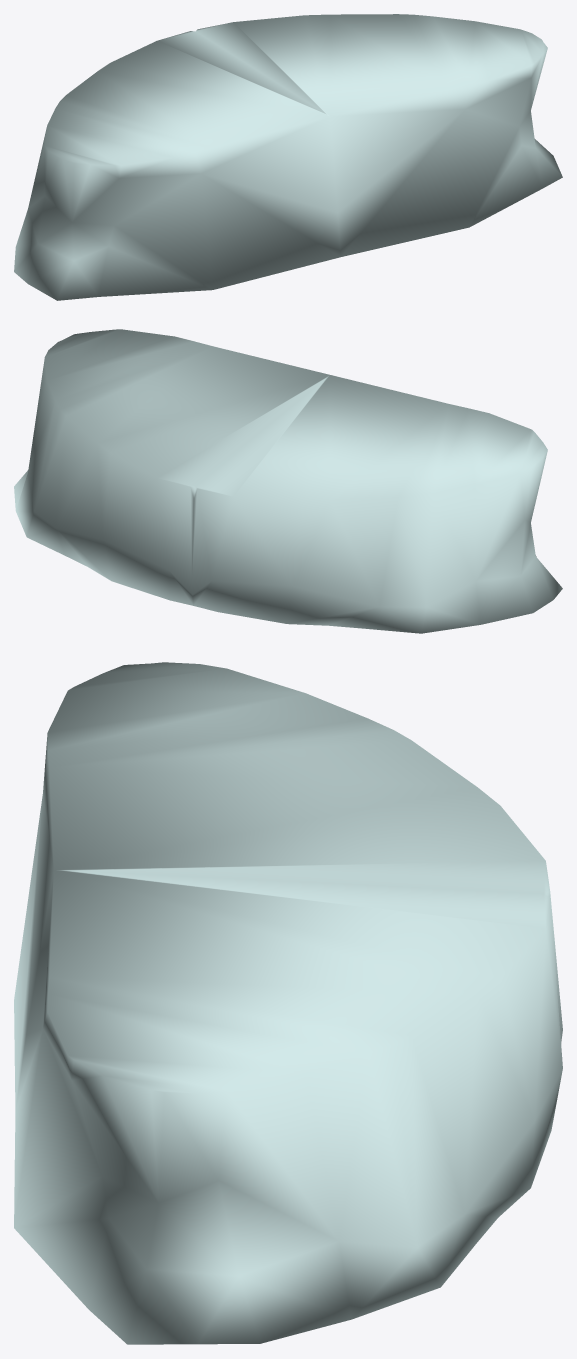
File: Intervertebral_symphysis-Lumbar_vertebrae.002_grp1.002.glb
3 views of the same model, one above another, from view 1: azimuth 30°, elevation 25°; view 2: azimuth 150°, elevation 25°; view 3: azimuth 270°, elevation 25° (orthographic). The views are drawn at different scales.
Parts seen in each view (by area): view 1: Intervertebral_symphysis-Lumbar_vertebrae.002_grp1.002; view 2: Intervertebral_symphysis-Lumbar_vertebrae.002_grp1.002; view 3: Intervertebral_symphysis-Lumbar_vertebrae.002_grp1.002.
Part boxes in pixels (x1,y1,x2,y2): Intervertebral_symphysis-Lumbar_vertebrae.002_grp1.002: (14, 14, 562, 300); Intervertebral_symphysis-Lumbar_vertebrae.002_grp1.002: (14, 329, 562, 633); Intervertebral_symphysis-Lumbar_vertebrae.002_grp1.002: (14, 662, 562, 1344).
Size of the model in its own units: 0.0215 by 0.00536 by 0.0107.
